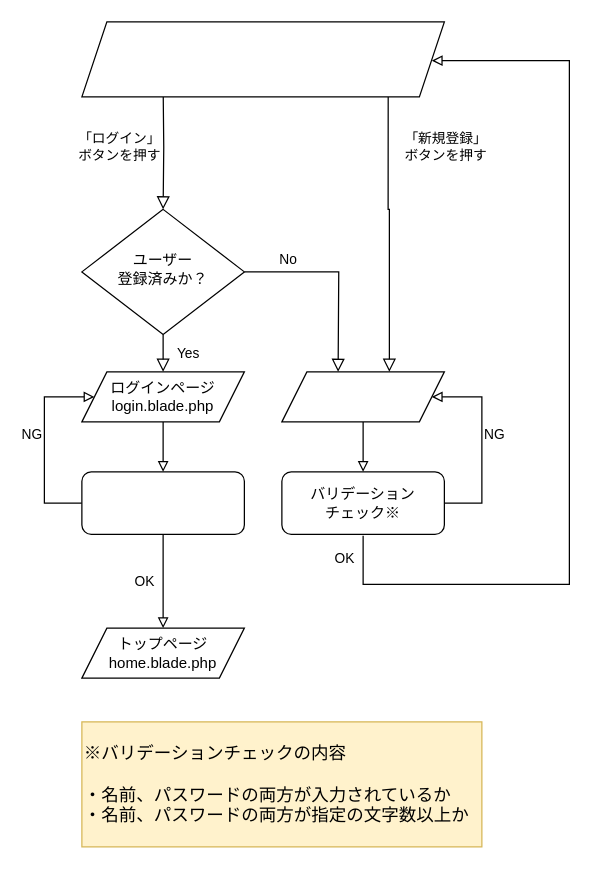
The diagram is 601 pixels wide and 869 high, and some of its shapes have lost their labels. Each missing label, with the centre of its shape:
DB1と照合: the point at 162,502
初期ページ index.blade.php: the point at 262,59
新規登録ページ register.blade.php: the point at 362,396
